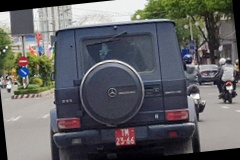plate: (114, 127, 137, 146)
